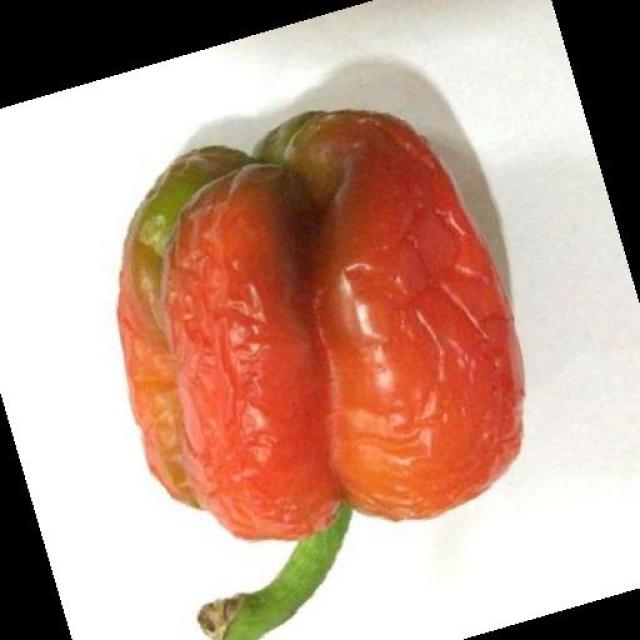Stale_Capsicum: (91, 110, 504, 574)
